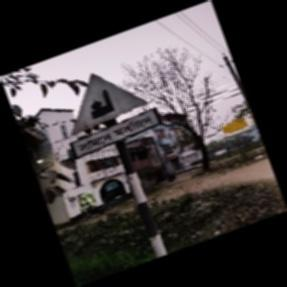Mosque in front: (68, 68, 165, 162)
